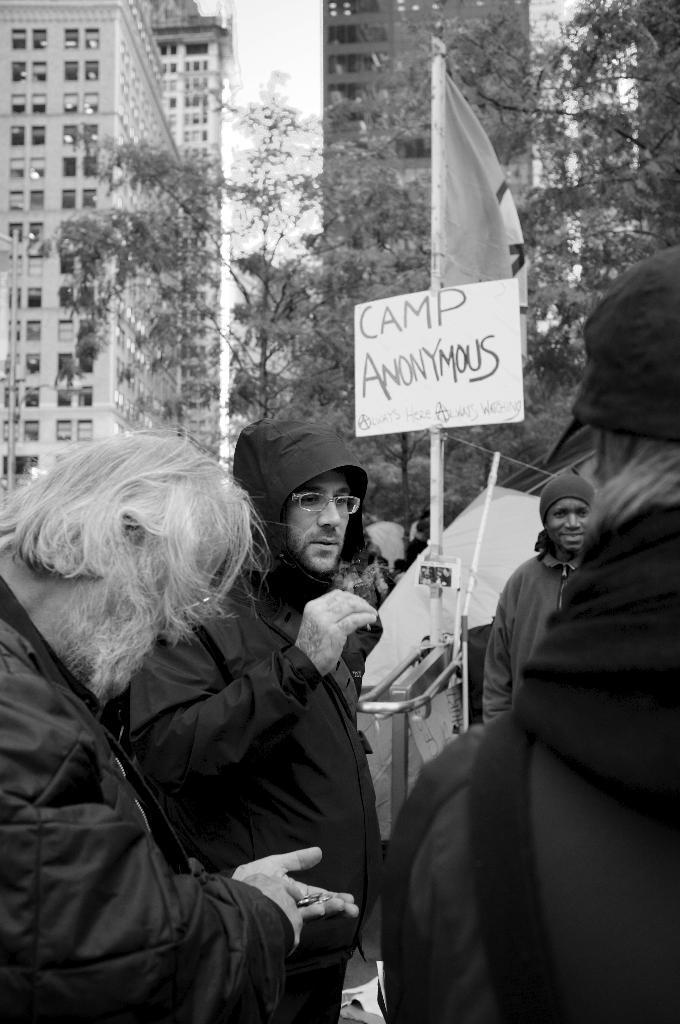Sem Máscara: (289, 468, 349, 570), (541, 501, 587, 547)
